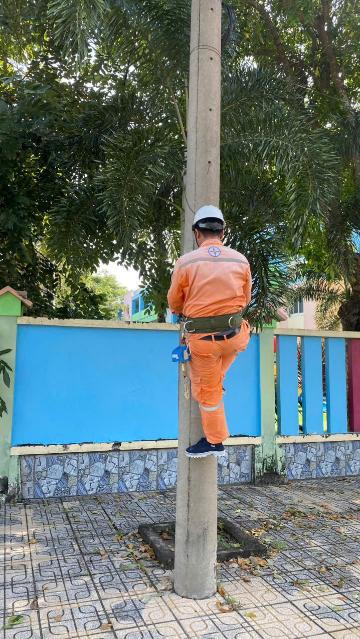harness: (159, 306, 260, 342)
helmet: (179, 202, 242, 242)
shoes: (181, 433, 236, 463)
